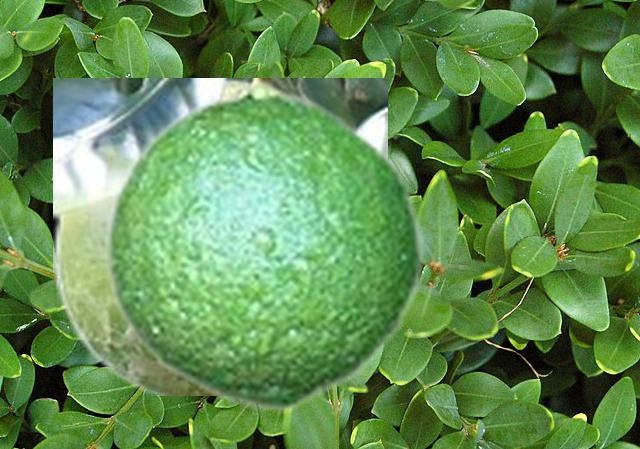dalandan: (101, 78, 424, 412), (53, 78, 386, 394)
